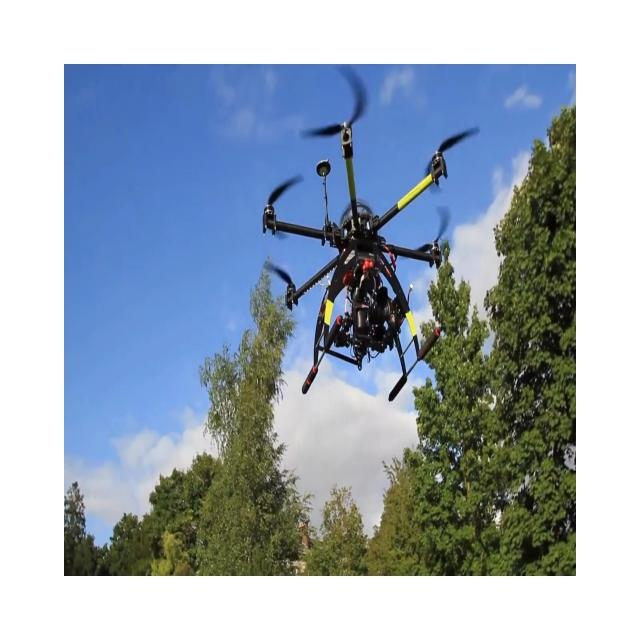drone: (261, 64, 480, 402)
